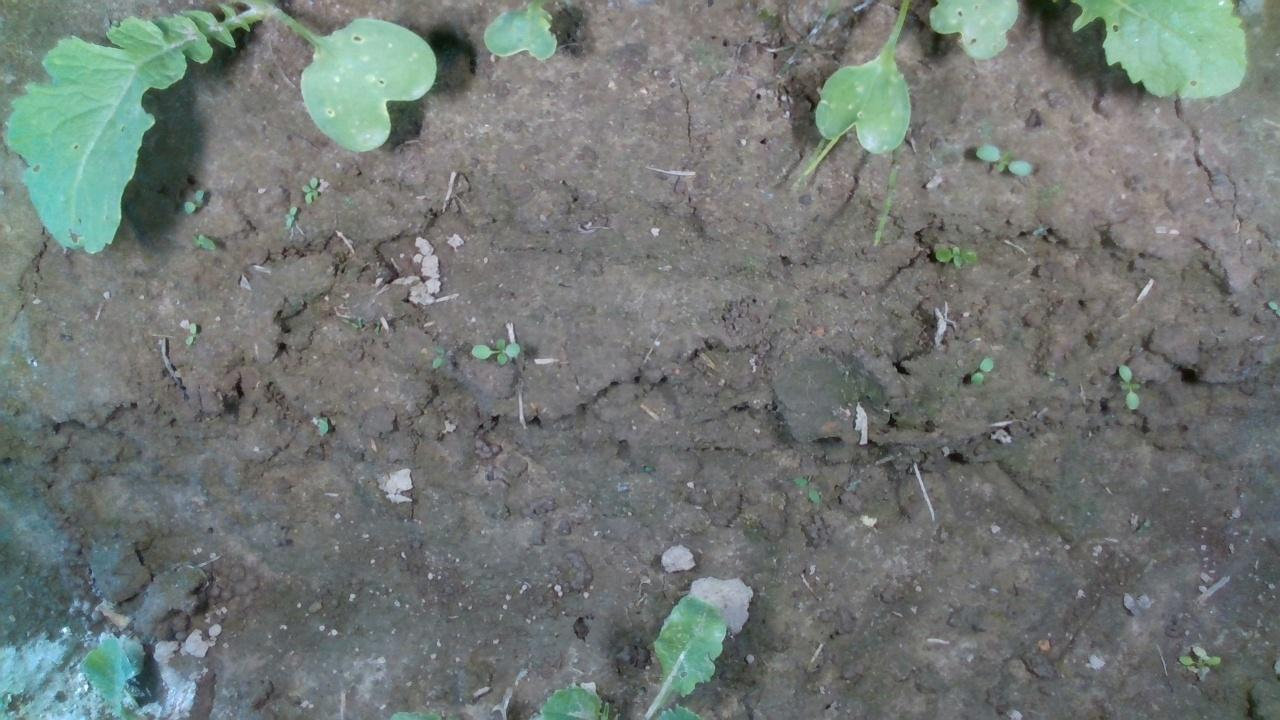weed: (972, 142, 1032, 177), (469, 334, 522, 368), (1176, 643, 1221, 680), (932, 241, 980, 270), (1116, 363, 1142, 410), (790, 475, 820, 507), (966, 354, 994, 387), (181, 183, 205, 215), (427, 340, 451, 370), (185, 230, 217, 252), (299, 174, 319, 205), (281, 204, 297, 230), (183, 320, 198, 346)
